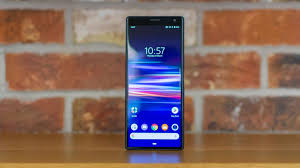sony: (126, 13, 187, 151)
